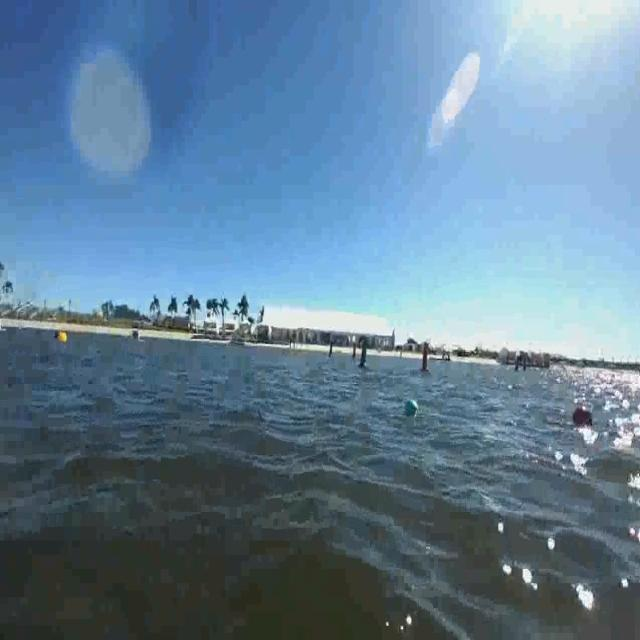green-buoy: (406, 401, 418, 417)
green-column-buoy: (358, 338, 370, 369)
red-buoy: (572, 403, 591, 427)
red-column-buoy: (420, 342, 431, 374), (352, 341, 358, 362)
yellow-buoy: (60, 332, 69, 346)
